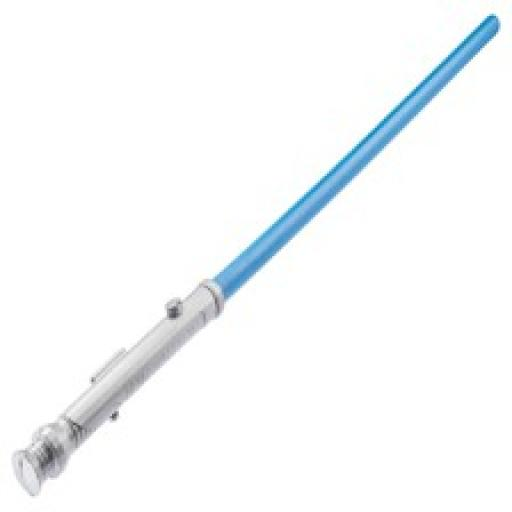lightsaber: (8, 9, 504, 498)
